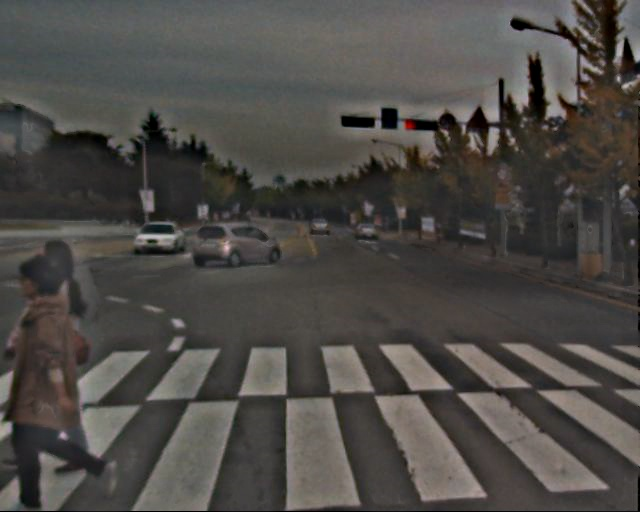person: (8, 232, 120, 473)
